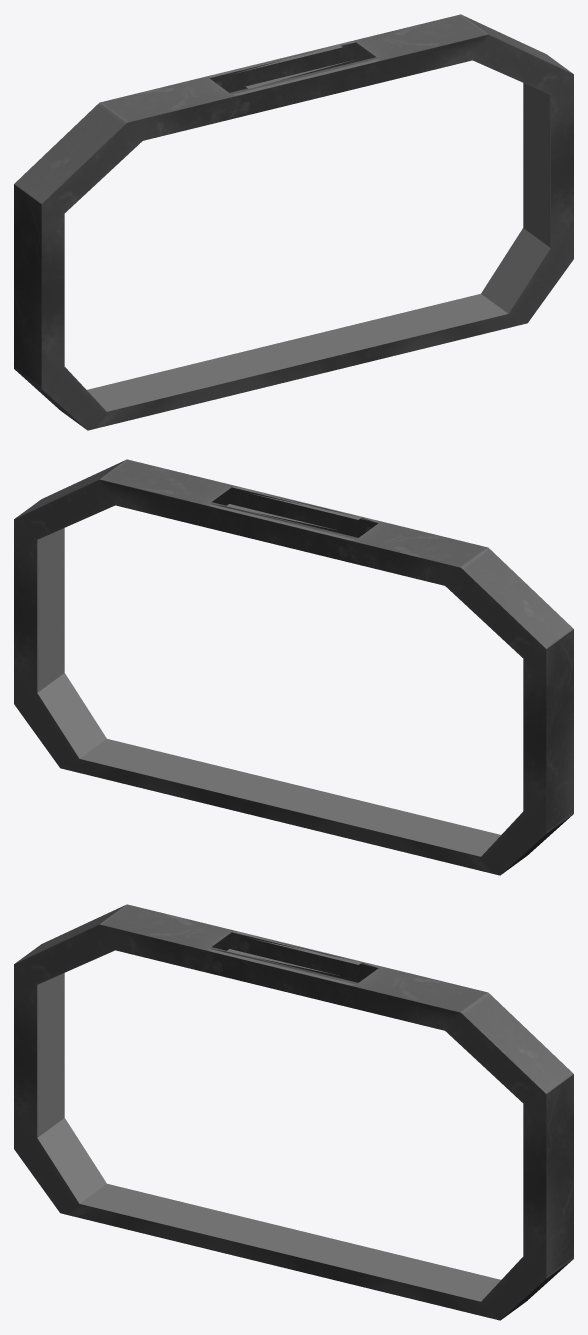
The picture shows the model from 3 angles, top to bottom: view 1: azimuth 30°, elevation 25°; view 2: azimuth 150°, elevation 25°; view 3: azimuth 330°, elevation 25°; orthographic projection.
Parts seen in each view (by area): view 1: pCube8_lambert1_0.001, pCube8; view 2: pCube8_lambert1_0.001, pCube8; view 3: pCube8_lambert1_0.001, pCube8.
Part boxes in pixels (box(x1,y1,x2,y2)): pCube8_lambert1_0.001: box(14, 16, 527, 430); pCube8: box(356, 14, 573, 322); pCube8_lambert1_0.001: box(61, 460, 573, 875); pCube8: box(14, 459, 230, 768); pCube8_lambert1_0.001: box(14, 904, 527, 1320); pCube8: box(356, 968, 573, 1320).
Size of the model in its own units: 5.81 by 3.12 by 0.5194.
2 materials, 2 textured.
